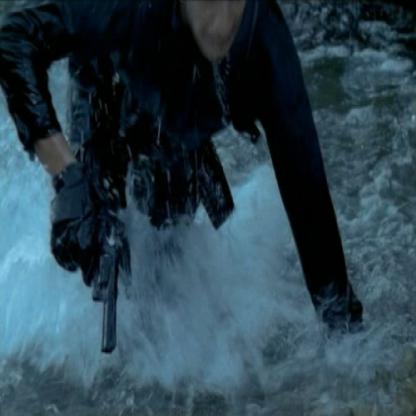Guns: (76, 207, 124, 358)
